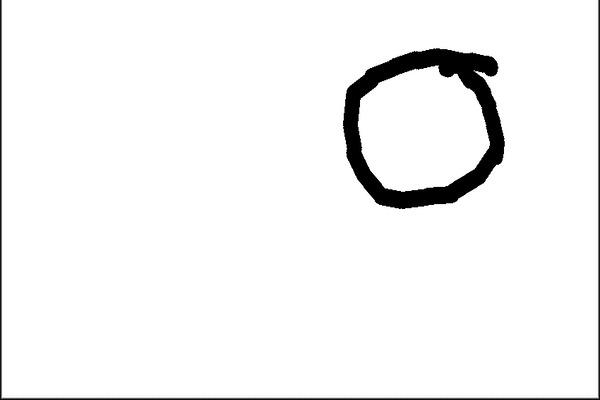O: (326, 34, 510, 217)
